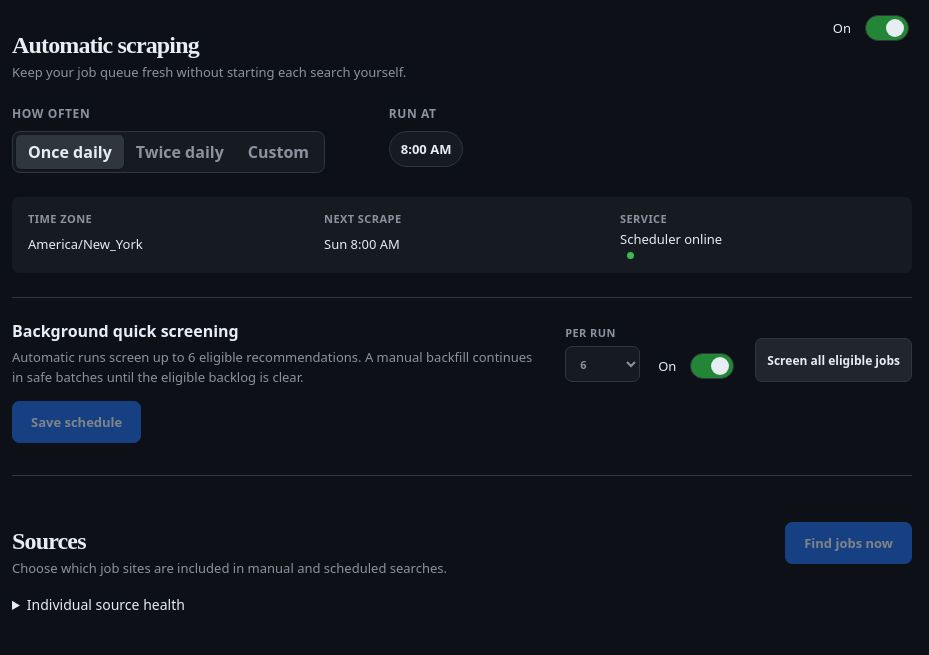
Test: starts screening without starting a source search
Click the button "Screen all eligible jobs": (834, 360) [755,338,912,382]
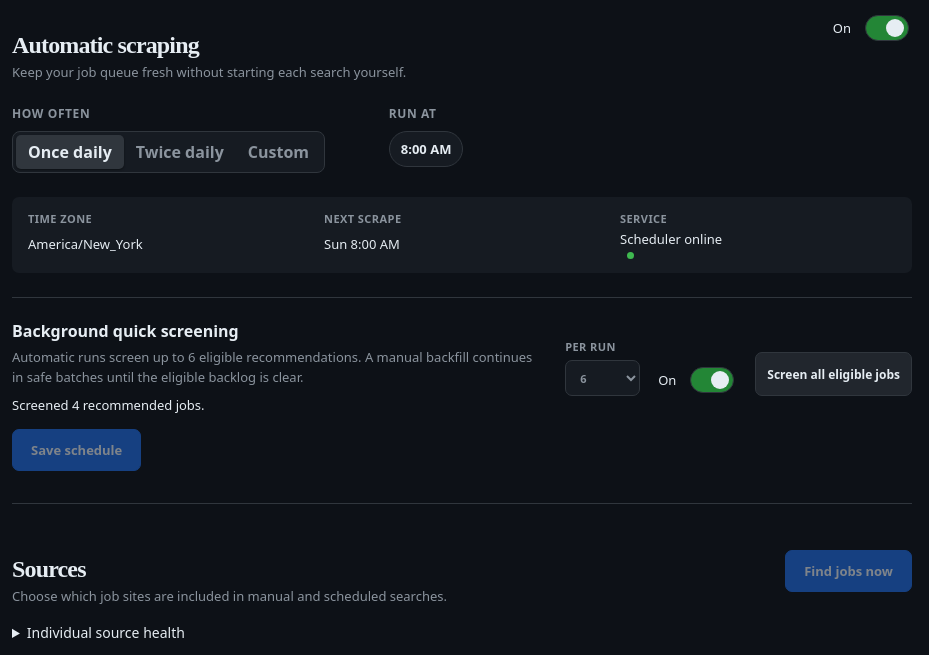
Now the text "Screened 4 recommended jobs." is shown, box [12,396,205,414]
